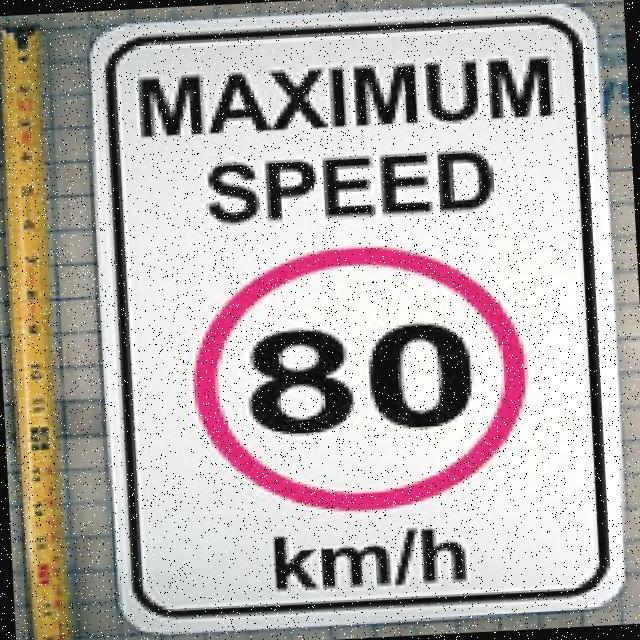Ograniczenie predkosci do 80: (194, 246, 531, 518)
